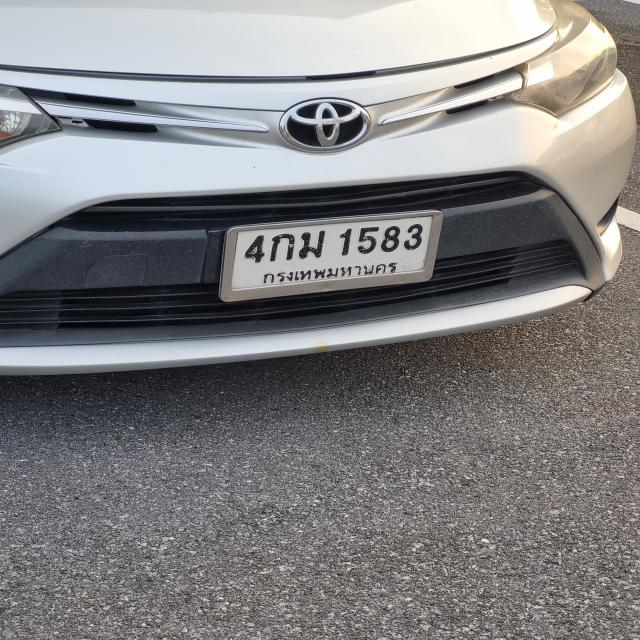license_plate: (215, 208, 445, 305)
